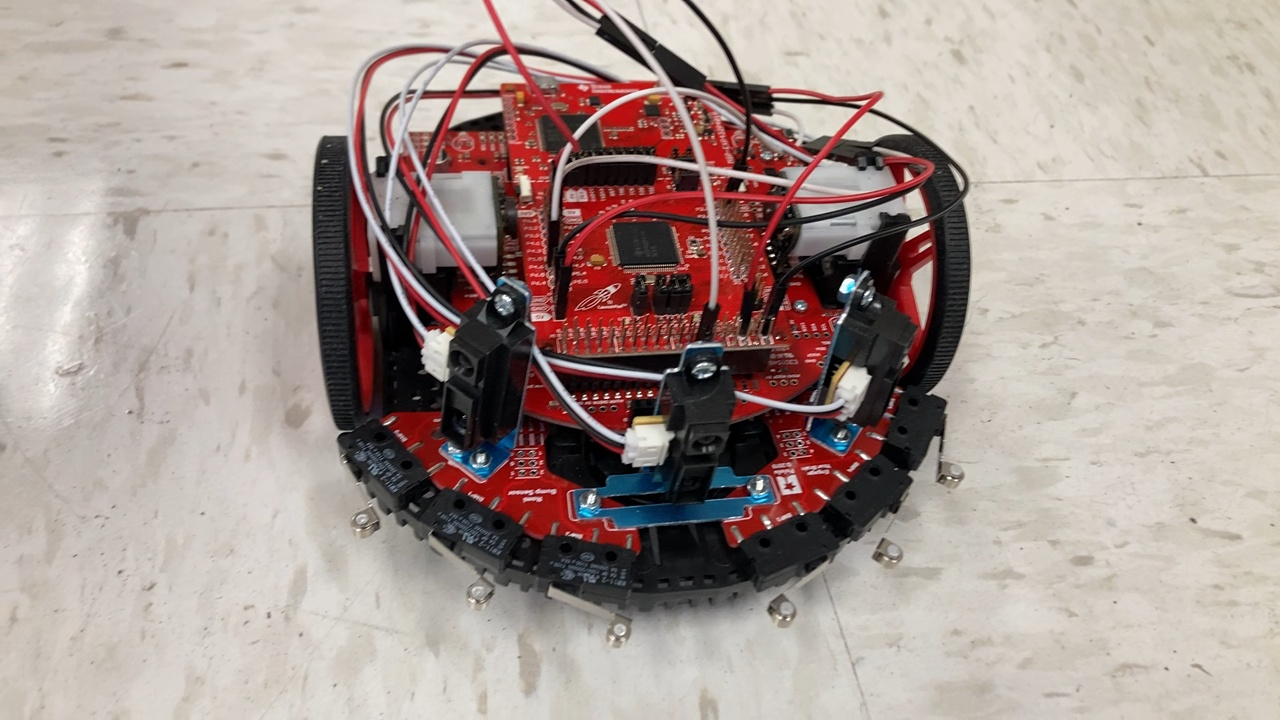robot: (300, 1, 978, 650)
